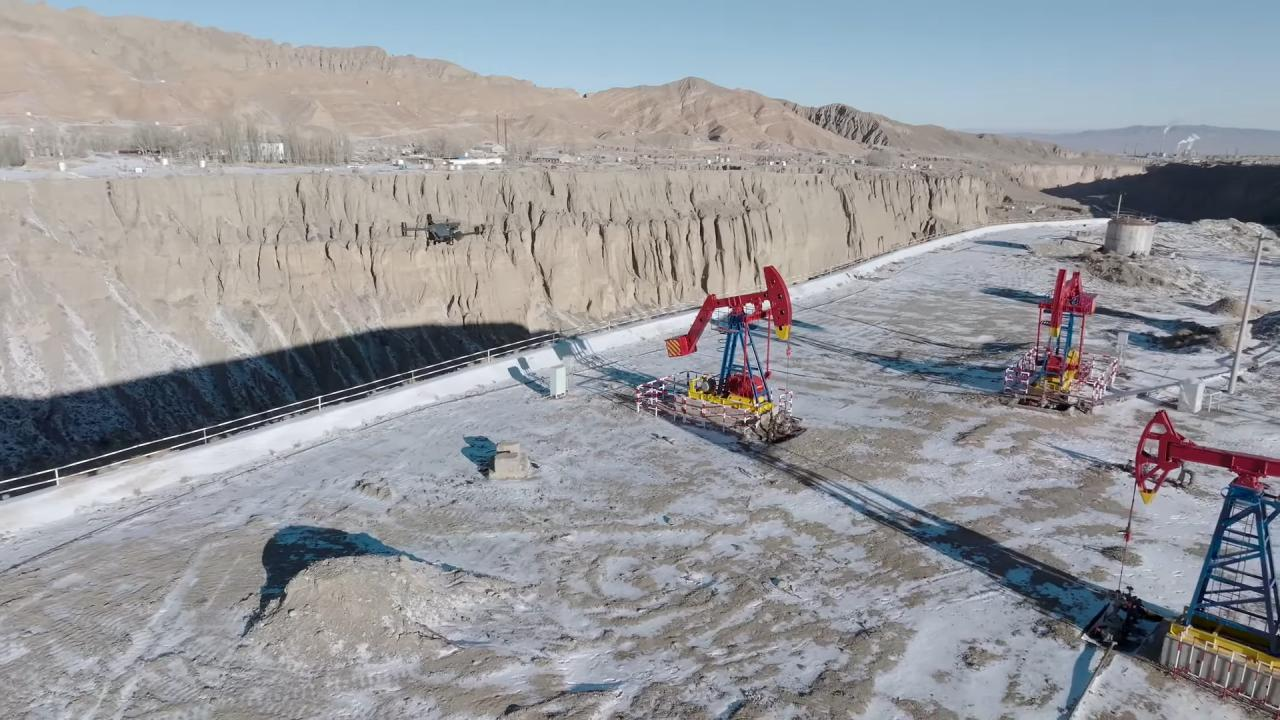Drone: (393, 204, 496, 260)
